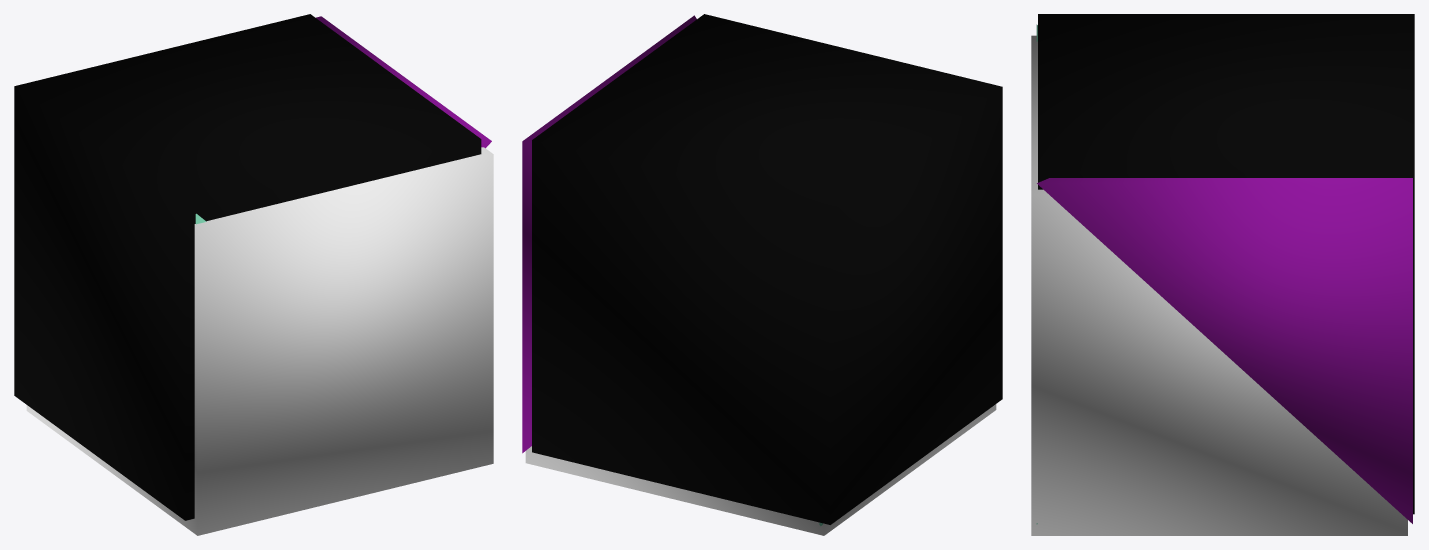
3 views of the same model, side by side, from view 1: azimuth 30°, elevation 25°; view 2: azimuth 150°, elevation 25°; view 3: azimuth 270°, elevation 25° (orthographic). The views are drawn at different scales.
Visible parts, largest first — view 1: Renderer Node; view 2: Renderer Node; view 3: Renderer Node.
Boxes of the visible parts, box(x1,y1,x2,y2) form: Renderer Node: box(14, 14, 493, 535); Renderer Node: box(522, 14, 1002, 535); Renderer Node: box(1031, 14, 1414, 535).
Bounding box in the file's own units: 0.8857 × 0.8975 × 0.8707.
